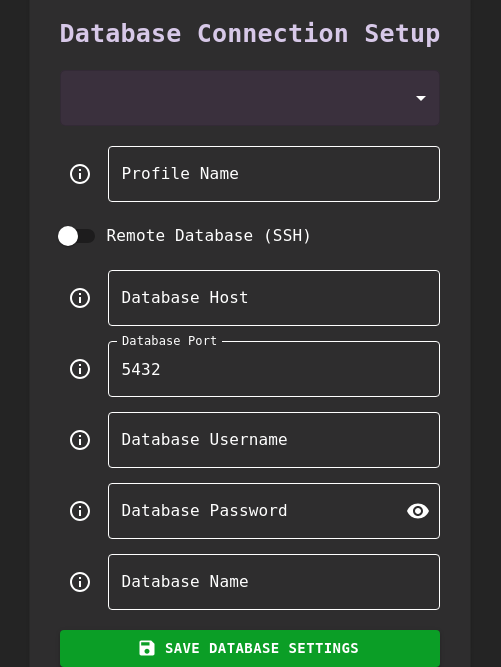
Scenario: DatabaseSetup › covers toggleRemote branch when disabling remote
The width and height of the screenshot is (501, 667).
Click the checkbox labelled "Remote Database (SSH)" at (185,236), box 58,226 -> 312,246
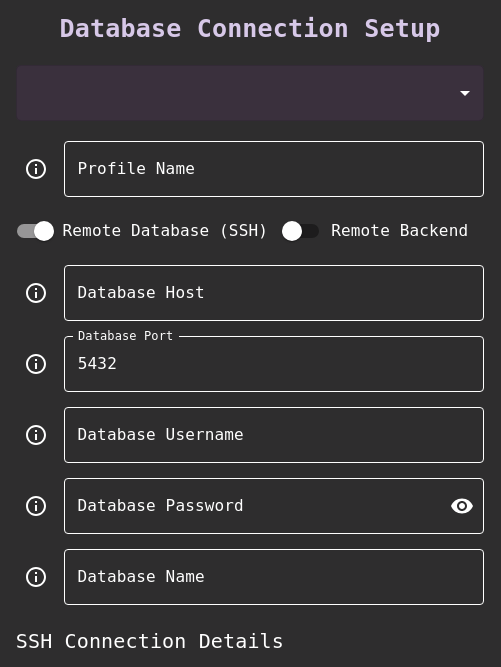
Click the checkbox labelled "Remote Backend" at (375,231), box 282,221 -> 468,241
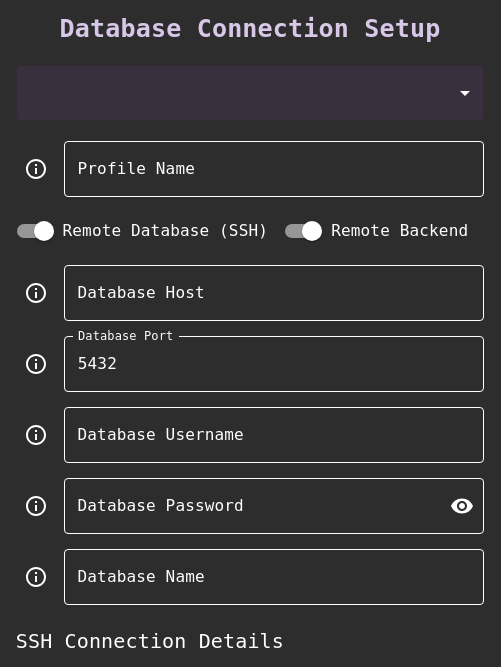
Click the checkbox labelled "Remote Database (SSH)" at (143,231), box 17,221 -> 268,241
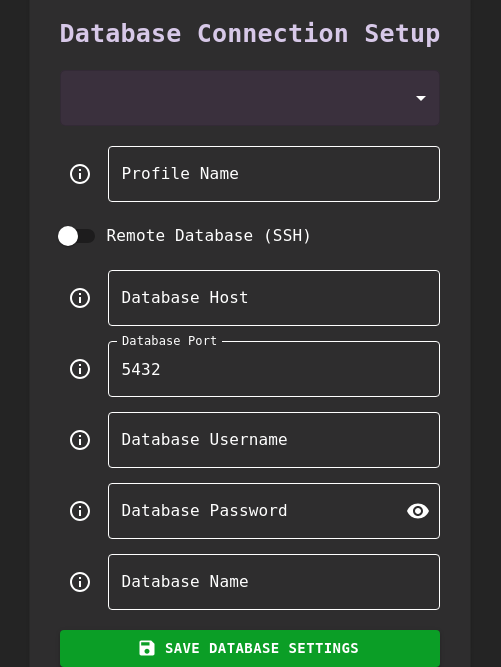
Click the checkbox labelled "Remote Database (SSH)" at (185,236), box 58,226 -> 312,246
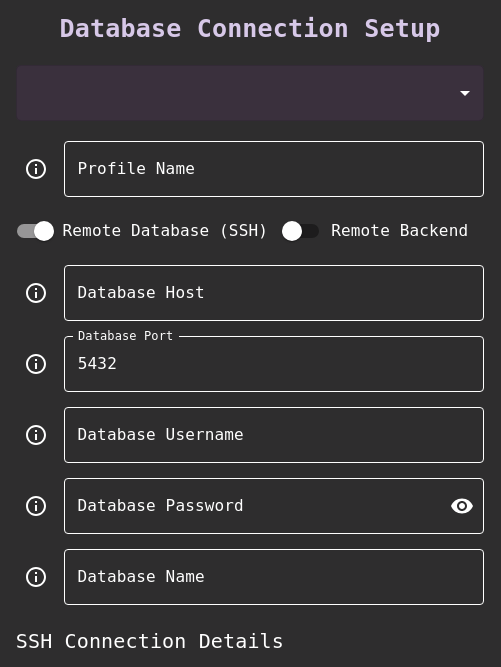
Now the checkbox labelled "Remote Backend" is not checked, box 282,221 -> 468,241
